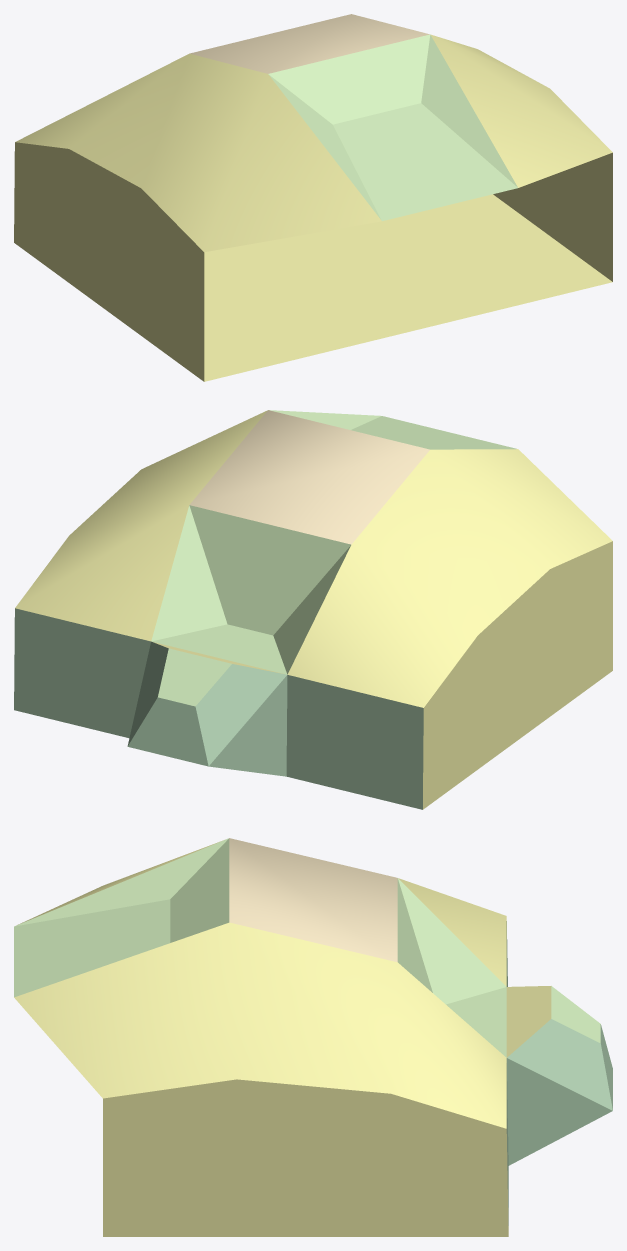
3 views of the same model, one above another, from view 1: azimuth 30°, elevation 25°; view 2: azimuth 150°, elevation 25°; view 3: azimuth 270°, elevation 25° (orthographic). The views are drawn at different scales.
Parts seen in each view (by area): view 1: Object17; view 2: Object17; view 3: Object17.
Boxes of the visible parts, bbox=[...] form: Object17: bbox=[14, 14, 612, 381]; Object17: bbox=[14, 410, 612, 809]; Object17: bbox=[14, 838, 612, 1236].
Size of the model in its own units: 30000 by 16439 by 35673.
